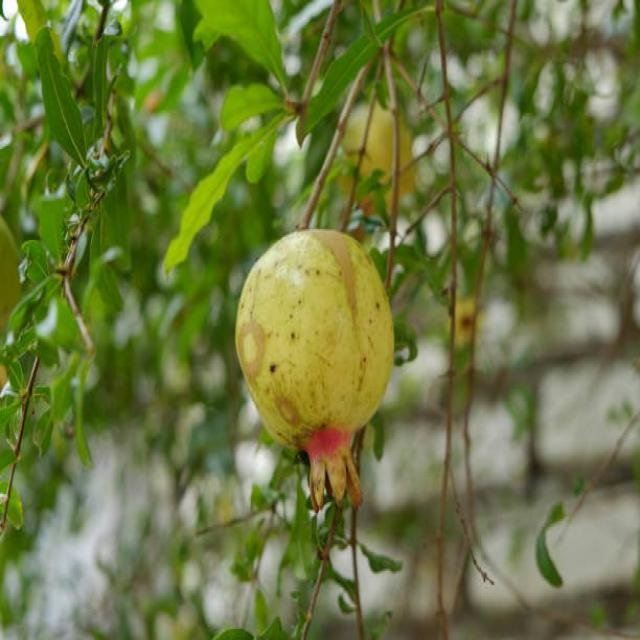Unripe: (236, 222, 394, 512)
